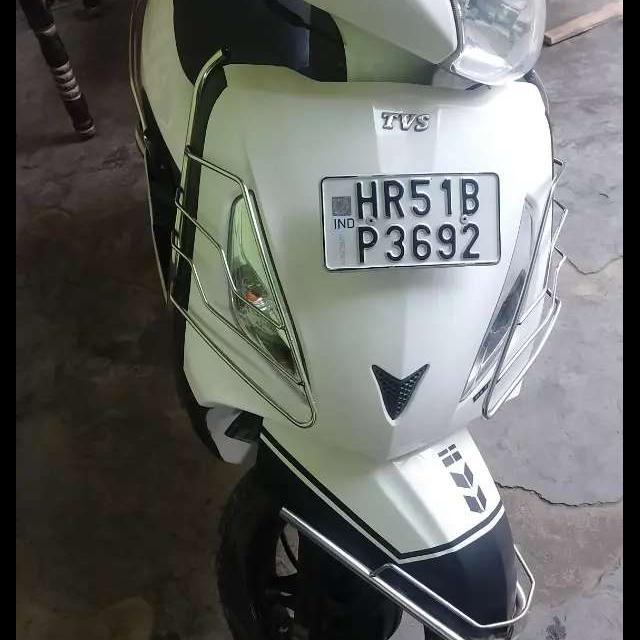Indian_Number_Plate: (323, 173, 502, 270)
